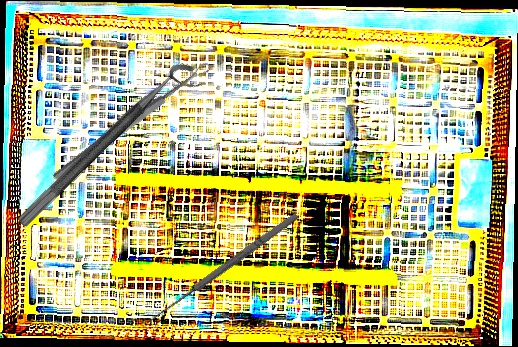Fixation Ring: (15, 55, 208, 243)
Hook Surgical: (146, 210, 304, 332)
Surgical Spoon: (50, 59, 214, 184)
